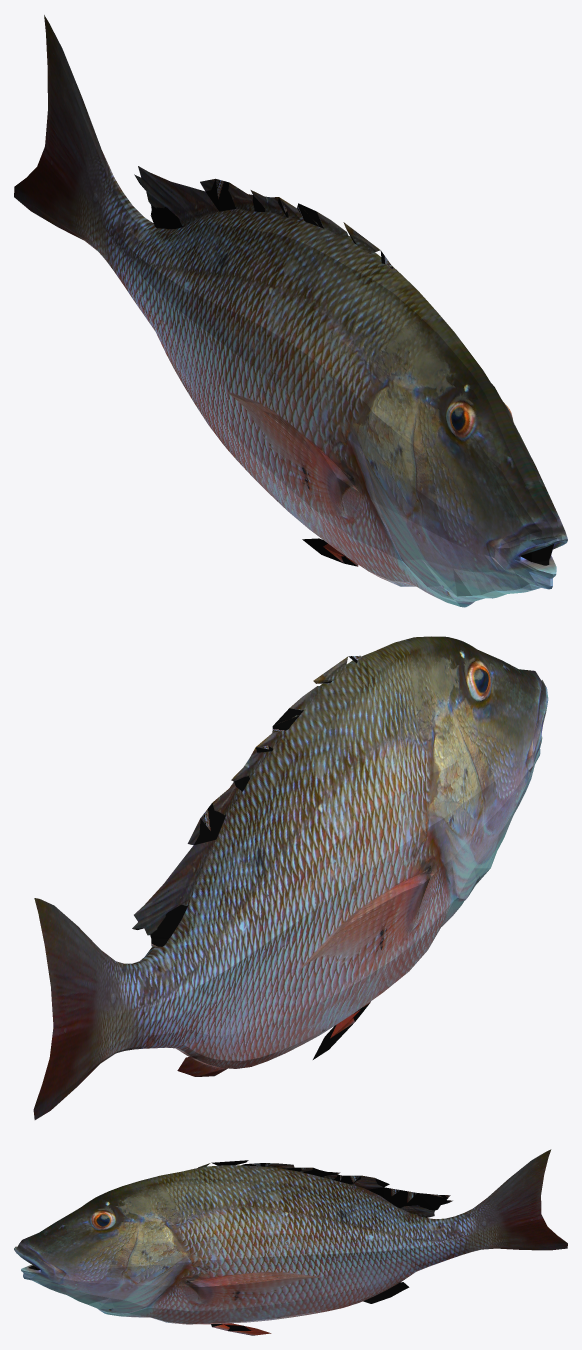
File: fishOBJ.obj
The picture shows the model from 3 angles, top to bottom: view 1: azimuth 30°, elevation 25°; view 2: azimuth 150°, elevation 25°; view 3: azimuth 270°, elevation 25°; orthographic projection. The views are drawn at different scales.
Parts seen in each view (by area): view 1: Object.1; view 2: Object.1; view 3: Object.1.
Part boxes in pixels (x1,y1,x2,y2): Object.1: (14,15,567,607); Object.1: (33,636,548,1119); Object.1: (14,1149,567,1335).
Size of the model in its own units: 12.97 by 44.47 by 120.
